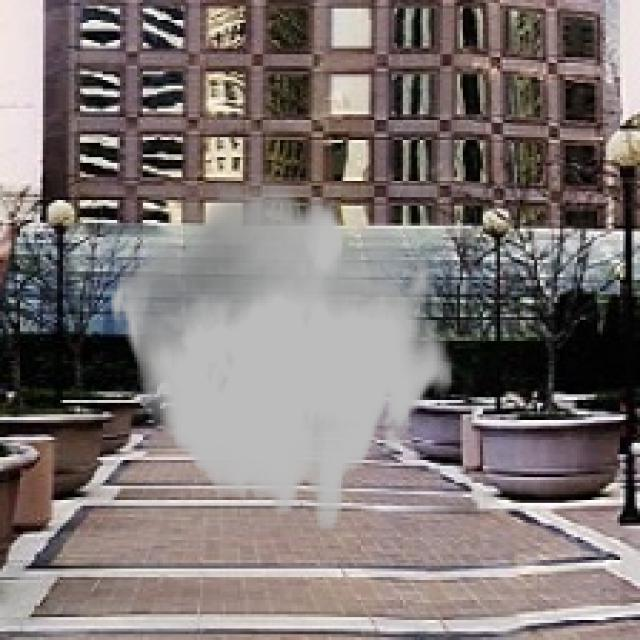smoke: (109, 177, 454, 529)
